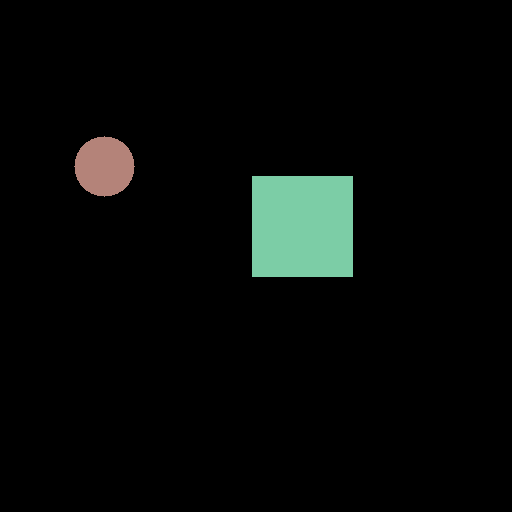circle: (74, 136, 134, 196)
square: (252, 176, 352, 276)
